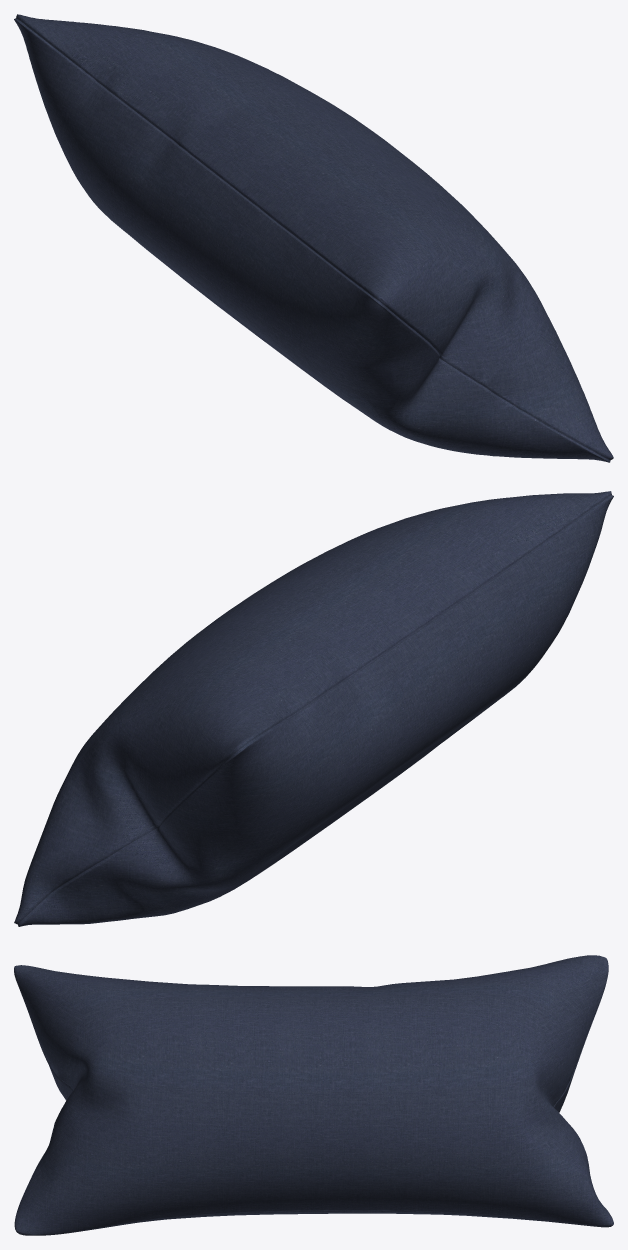
The model's file is pillow2.fbx.
3 views of the same model, one above another, from view 1: azimuth 30°, elevation 25°; view 2: azimuth 150°, elevation 25°; view 3: azimuth 270°, elevation 25° (orthographic). The views are drawn at different scales.
Visible parts, largest first — view 1: Pillow3; view 2: Pillow3; view 3: Pillow3.
Part boxes in pixels (box(x1,y1,x2,y2)): Pillow3: box(14, 14, 613, 462); Pillow3: box(14, 491, 613, 926); Pillow3: box(14, 955, 613, 1235).
Size of the model in its own units: 29.05 by 26.61 by 74.91.
